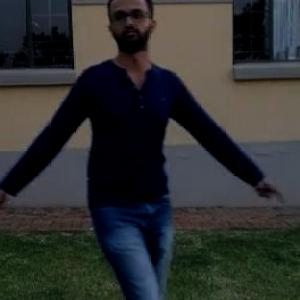land: (0, 0, 297, 299)
